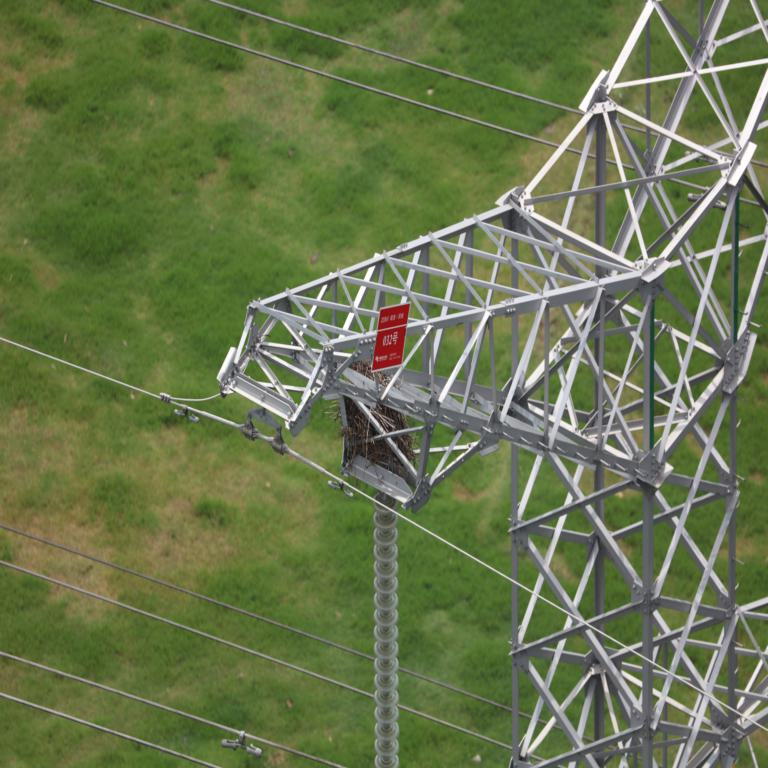nest: (343, 364, 412, 467)
